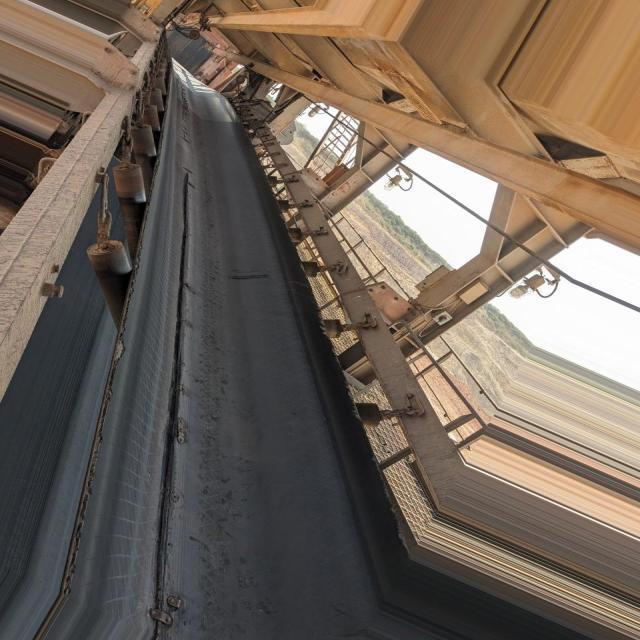Tear: (148, 170, 198, 624)
